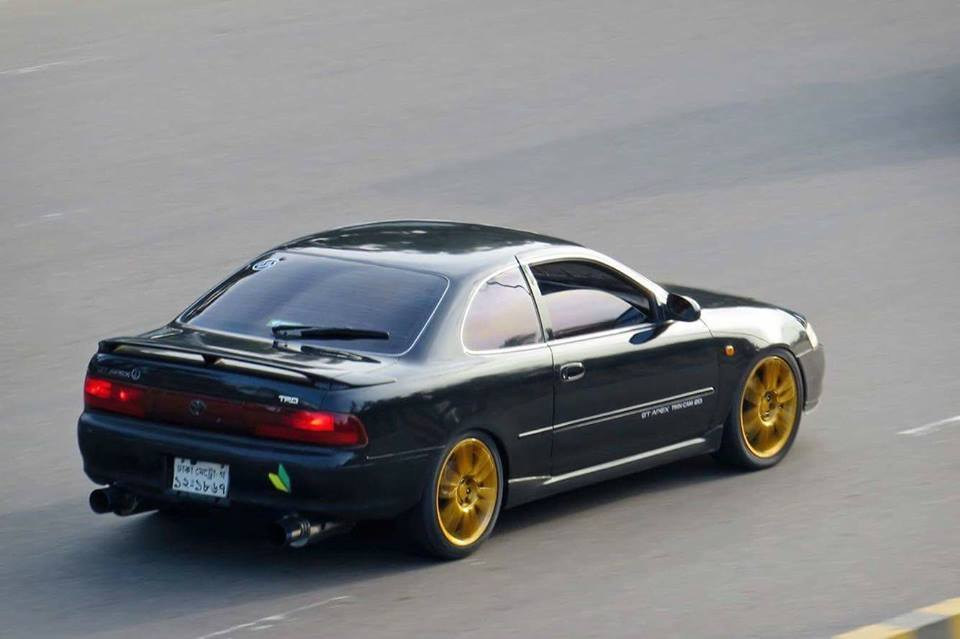registration_plate: (172, 457, 230, 498)
